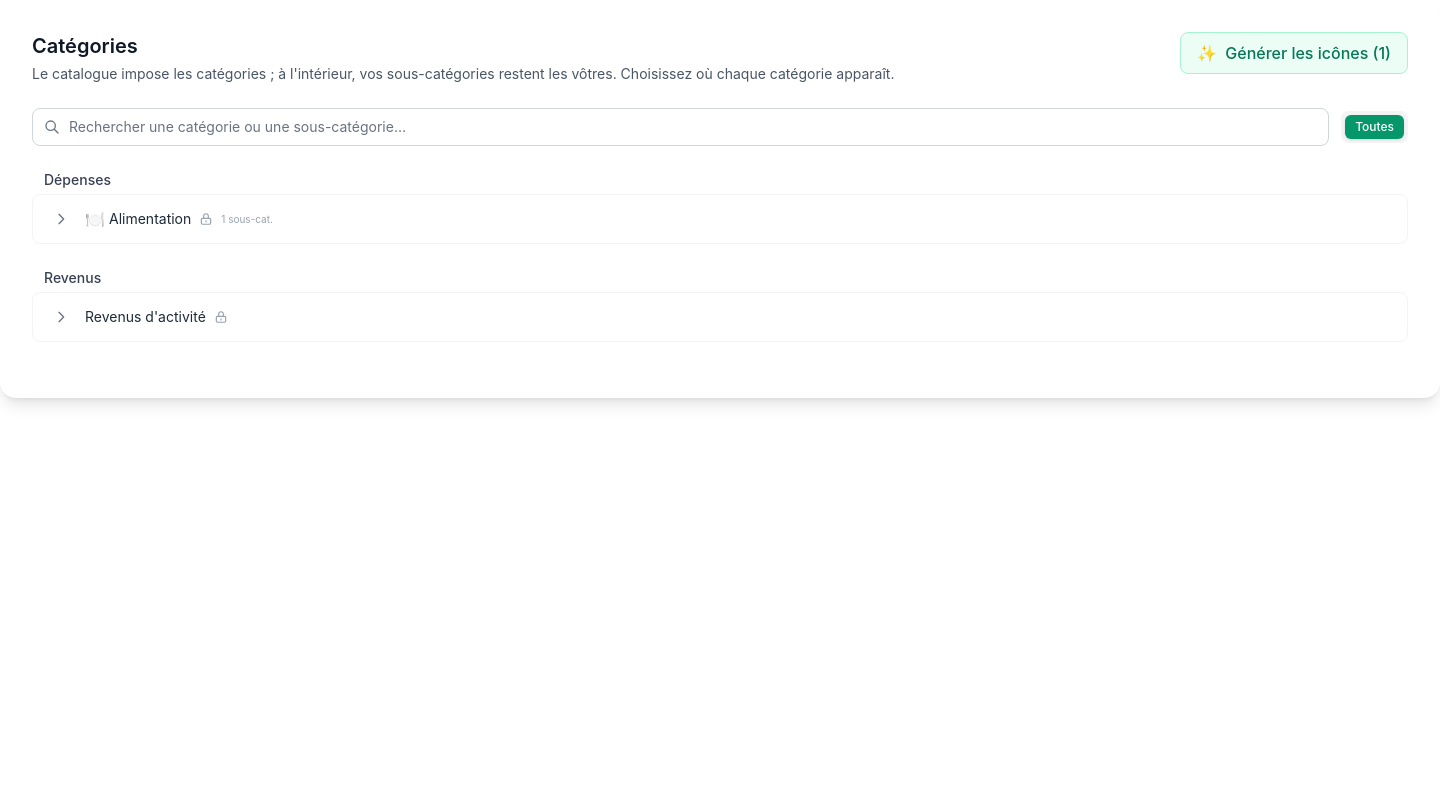
CategoriesSettingsPage › shows a catalogue row locked: attributes, no rename form
The image size is (1440, 810).
Click the button named "Déplier Alimentation".
click(61, 219)  # box [45, 203, 77, 235]
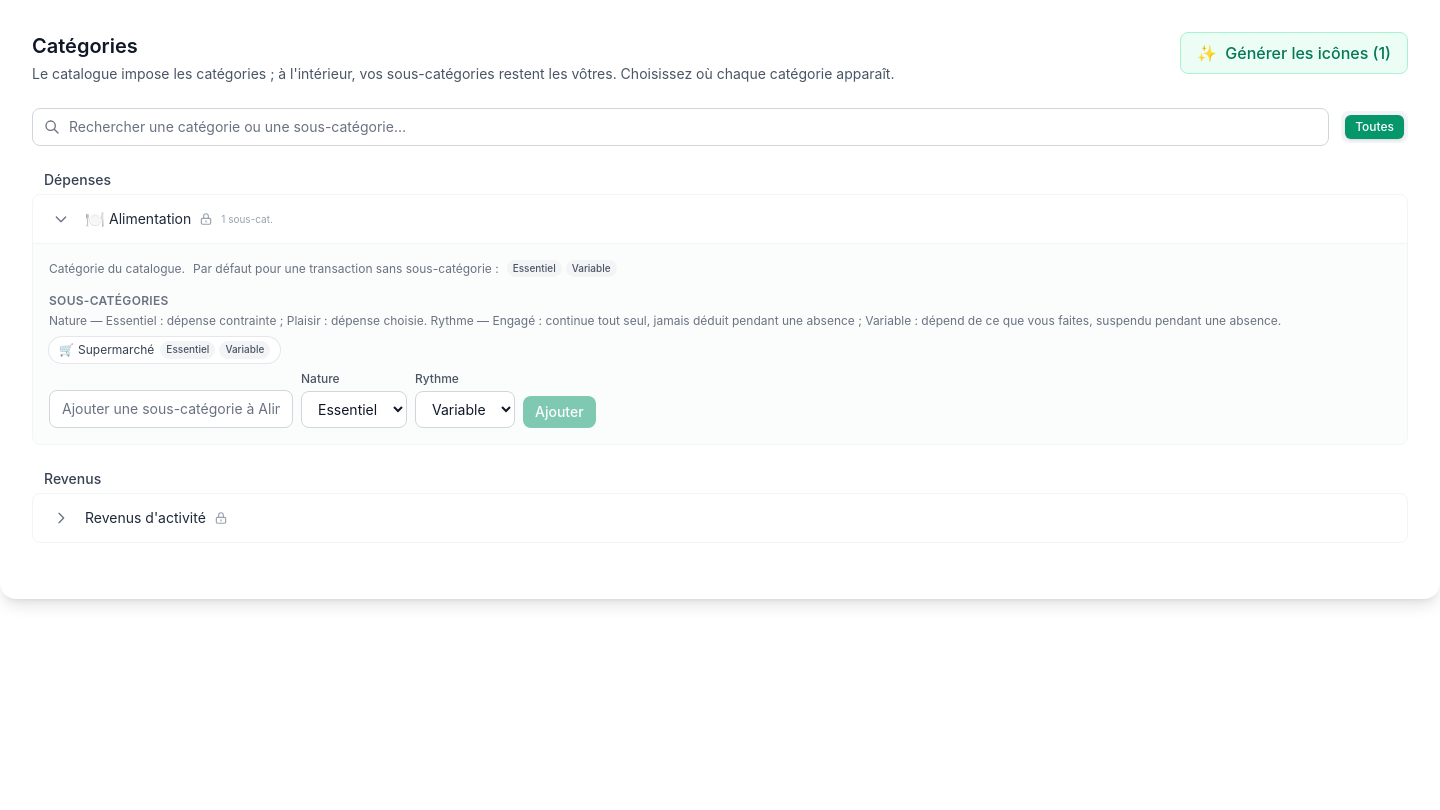
Check: the element with test id "catalog-note" shows "Essentiel", box [513, 262, 556, 274]
Check: the list item with test id "subcategory-chip" shows "Supermarché", box [78, 342, 154, 357]
Check: the list item with test id "subcategory-chip" shows "Variable", box [225, 343, 264, 355]
